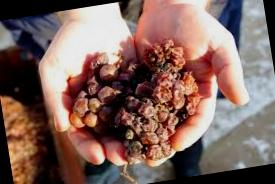Grape Rotten: (58, 34, 209, 173)
